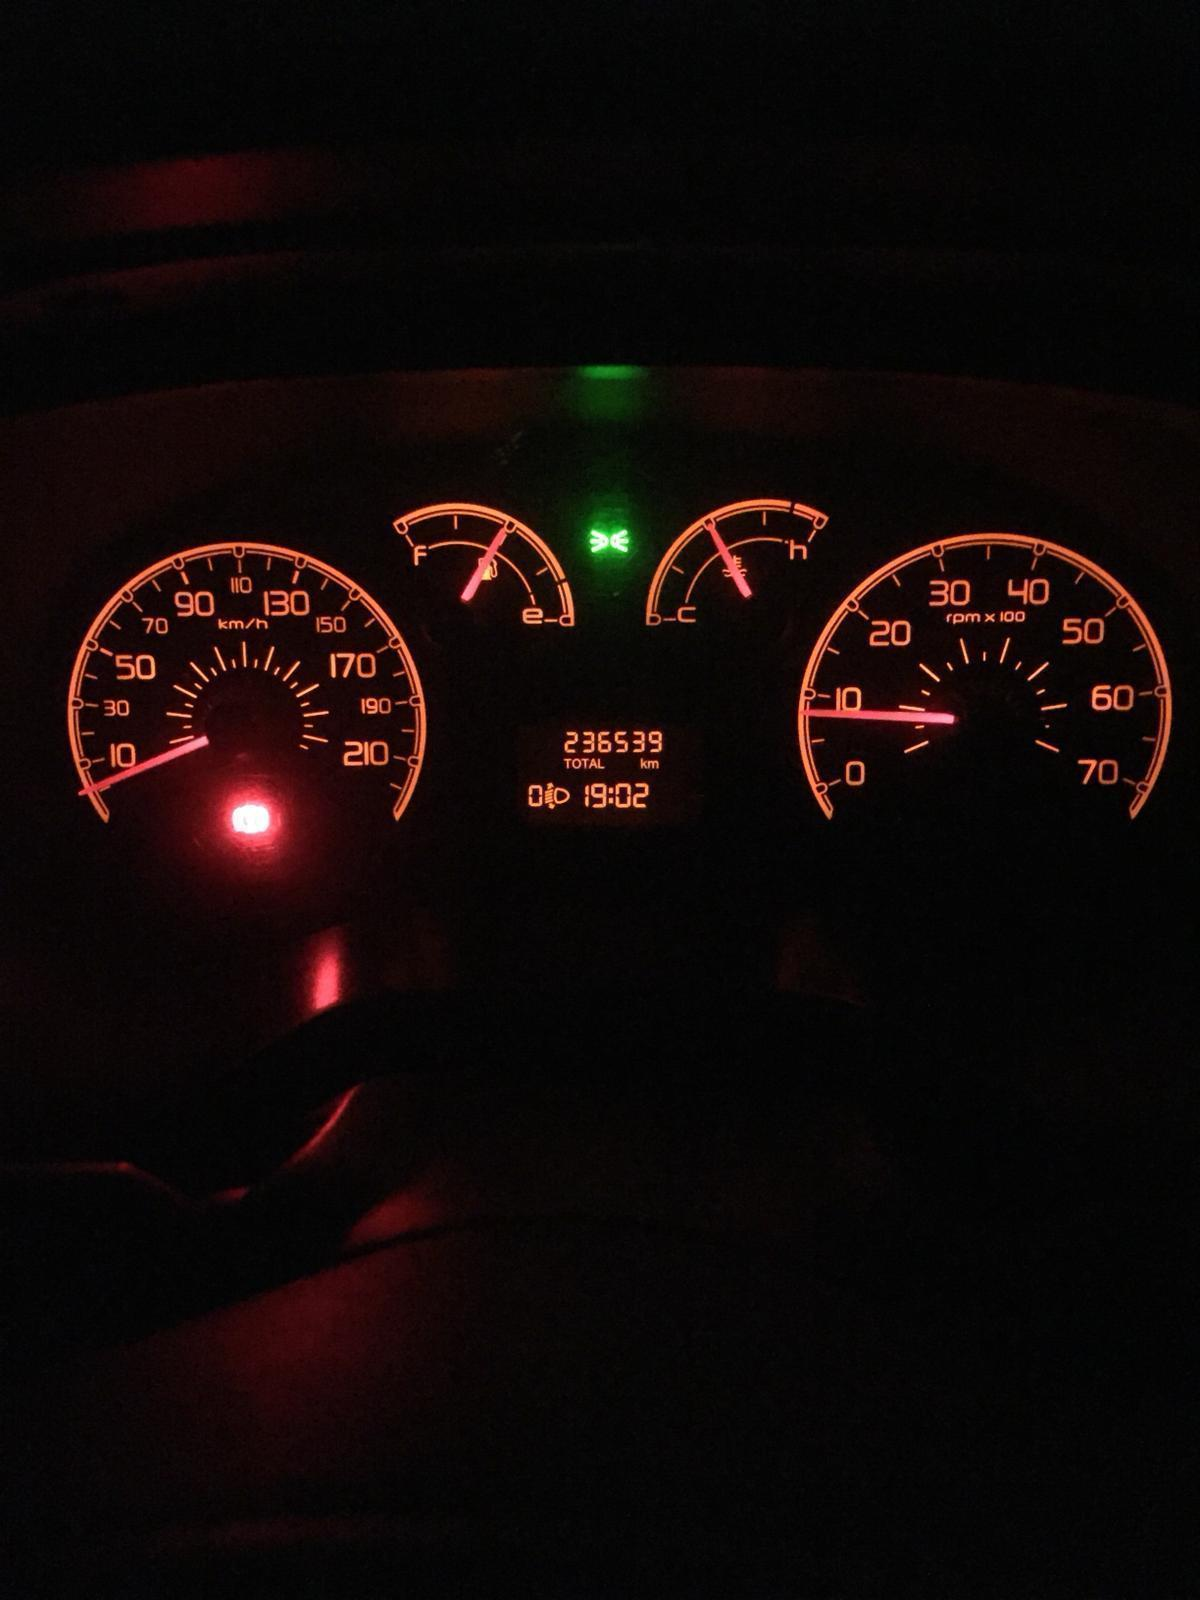0: (614, 781, 632, 808), (527, 784, 542, 808)
1: (584, 784, 590, 811)
2: (633, 781, 650, 809), (563, 729, 579, 753)
3: (632, 729, 645, 753), (582, 729, 595, 753)
5: (614, 729, 629, 753)
6: (597, 729, 611, 753)
9: (590, 781, 606, 808), (648, 729, 663, 753)
X: (647, 758, 659, 769), (562, 757, 572, 769), (572, 757, 582, 769), (639, 757, 648, 769), (589, 757, 597, 769), (608, 786, 613, 804), (597, 757, 605, 769), (582, 757, 587, 769)
odometer: (521, 723, 679, 823)
